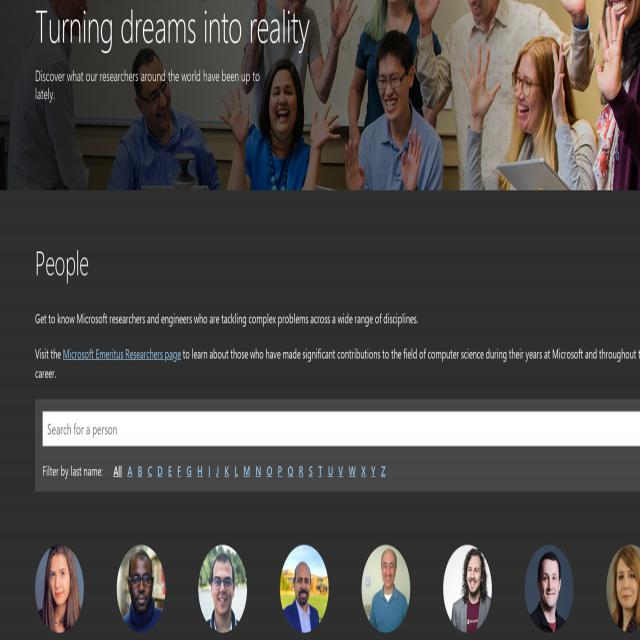button: (443, 545, 493, 635), (280, 543, 328, 635), (116, 545, 166, 632), (35, 546, 84, 633), (199, 545, 247, 633), (525, 545, 573, 632), (362, 548, 411, 633), (606, 546, 640, 631)
field: (43, 410, 640, 446)
